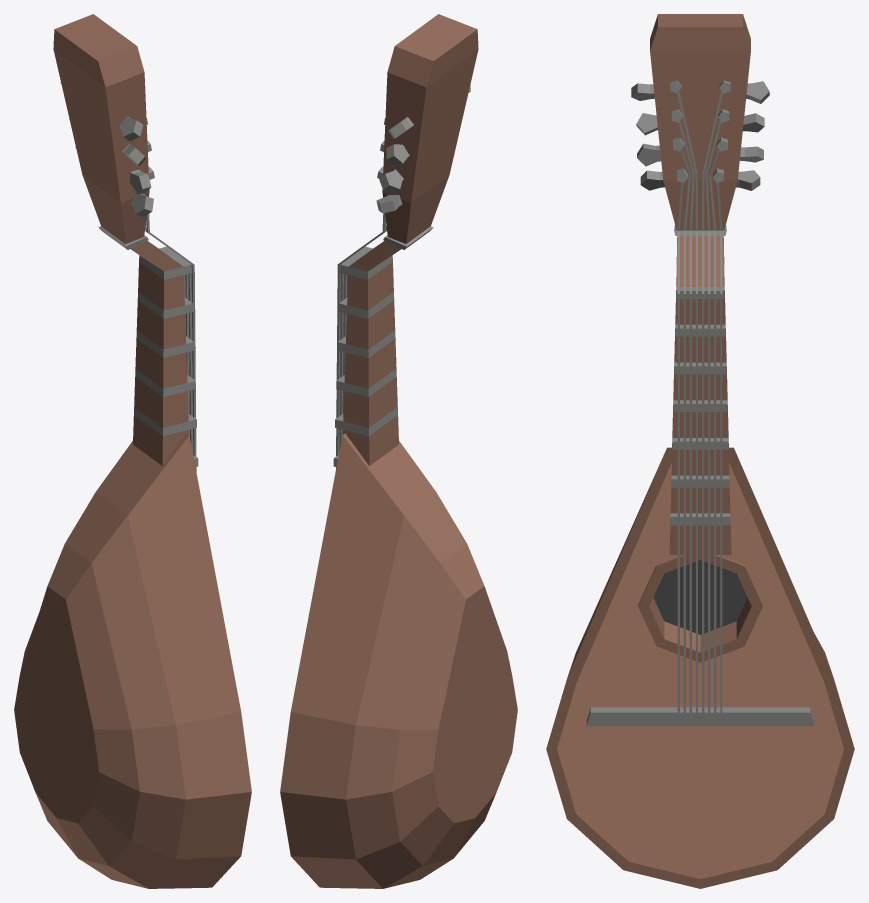
File: Mandolin.fbx
The picture shows the model from 3 angles, left to right: view 1: azimuth 30°, elevation 25°; view 2: azimuth 150°, elevation 25°; view 3: azimuth 270°, elevation 25°; orthographic projection. The views are drawn at different scales.
Parts seen in each view (by area): view 1: Mandolin; view 2: Mandolin; view 3: Mandolin.
Boxes of the visible parts, <box> form: Mandolin: <box>14,14,251,888</box>; Mandolin: <box>280,14,517,888</box>; Mandolin: <box>546,14,854,888</box>.
Bounding box in the file's own units: 19.23 × 122 × 40.7.
